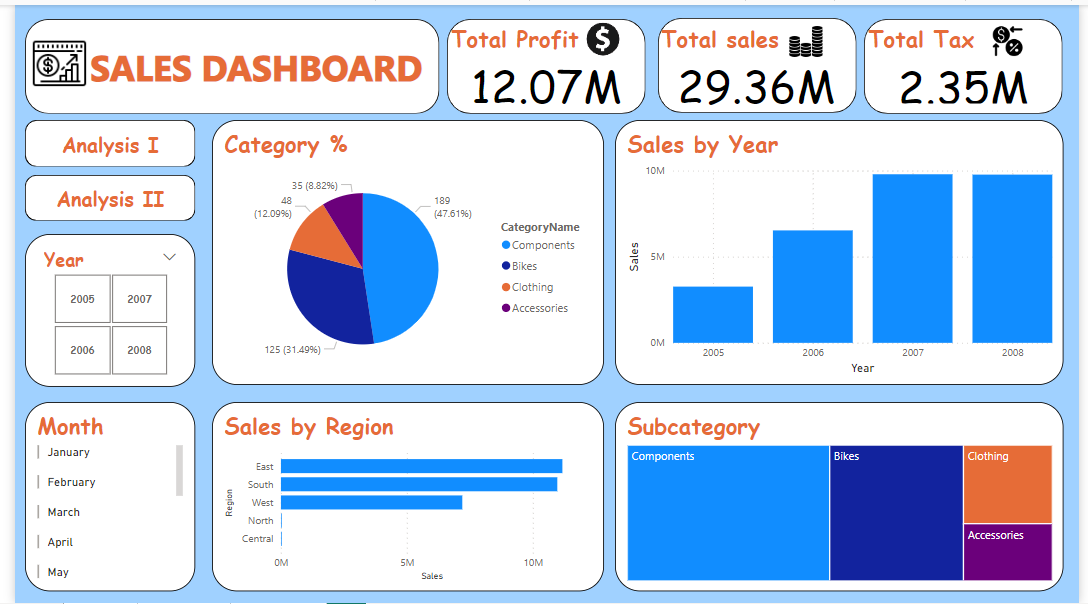

The dashboard page shown, as its layout file describes it:
{"tool":"powerbi","page":{"name":"Home","canvas":[1280,720],"ordinal":0},"visuals":[{"type":"shape","box":[11.8,16.8,498.9,114.2],"z":0},{"type":"shape","box":[520.3,17.1,239.1,114.3],"z":1000},{"type":"shape","box":[773.9,15.8,239.1,114.3],"z":2000},{"type":"shape","box":[1022.2,17.1,239.1,114.3],"z":3000},{"type":"card","fields":{"Values":["Sum(Sales.Profit)"]},"box":[520.3,61.9,239.5,67.4],"z":4000},{"type":"textbox","box":[520.3,16.5,273.9,56.4],"z":5000},{"type":"image","box":[657.9,15.1,101.8,50.9],"z":6000},{"type":"card","fields":{"Values":["Sum(Sales.SalesAmount)"]},"box":[773.5,61.9,239.5,67.4],"z":7000},{"type":"textbox","box":[773.5,16.5,239.5,56.4],"z":8000},{"type":"textbox","box":[85.3,41.3,554.7,71.6],"z":9000},{"type":"card","fields":{"Values":["Sum(Sales.TaxAmt)"]},"box":[1022.6,68.8,239.5,55.1],"z":10000},{"type":"textbox","box":[1022.6,16.5,239.5,57.8],"z":11000},{"type":"slicer","fields":{"Values":["Sales.OrderDate.Variation.Date Hierarchy.Year"]},"box":[12.4,275.3,205.1,184.4],"z":12000},{"type":"multiRowCard","title":"Month","fields":{"Values":["Sales.OrderDate.Variation.Date Hierarchy.Month"]},"box":[12.4,477.6,205.1,228.5],"z":13000},{"type":"pieChart","title":"Category %","fields":{"Category":["Products.CategoryName"],"Y":["CountNonNull(Products.Color)"]},"box":[236.7,139,472.1,319.3],"z":14000},{"type":"columnChart","fields":{"Category":["Sales.OrderDate.Variation.Date Hierarchy.Year"],"Y":["Sum(Sales.SalesAmount)"]},"box":[722.6,139,539.5,319.3],"z":15000},{"type":"clusteredBarChart","fields":{"Y":["Sum(Sales.SalesAmount)"],"Category":["Customer.Region"]},"box":[236.7,477.6,472.1,228.5],"z":16000},{"type":"treemap","title":"Subcategory ","fields":{"Values":["CountNonNull(Products.SubcategoryName)"],"Group":["Products.CategoryName"]},"box":[722.6,477.6,539.5,228.5],"z":17000},{"type":"shape","box":[12.4,139,205.1,56.4],"z":18000},{"type":"shape","box":[12.4,205.1,205.1,55.1],"z":19000},{"type":"actionButton","box":[38.5,147.3,152.8,39.9],"z":20000},{"type":"actionButton","box":[38.5,212,152.8,39.9],"z":21000},{"type":"image","box":[1160.3,17.9,68.8,50.9],"z":22000},{"type":"image","box":[12.4,11,82.6,119.7],"z":23000},{"type":"image","box":[922.2,17.9,60.6,49.5],"z":24000}]}

Visuals, with their boxes in screenshot pixels (x1, y1, x2, y2), scaled from the page's 1280x720 canvas onto the 1088x604 screenshot:
shape: crop(10, 14, 434, 110)
shape: crop(442, 14, 645, 110)
shape: crop(658, 13, 861, 109)
shape: crop(869, 14, 1072, 110)
card - Sum(Sales.Profit): crop(442, 52, 646, 108)
textbox: crop(442, 14, 675, 61)
image: crop(559, 13, 646, 55)
card - Sum(Sales.SalesAmount): crop(657, 52, 861, 108)
textbox: crop(657, 14, 861, 61)
textbox: crop(73, 35, 544, 95)
card - Sum(Sales.TaxAmt): crop(869, 58, 1073, 104)
textbox: crop(869, 14, 1073, 62)
slicer - Sales.OrderDate.Variation.Date Hierarchy.Year: crop(11, 231, 185, 386)
"Month" multiRowCard: crop(11, 401, 185, 592)
"Category %" pieChart: crop(201, 117, 602, 384)
columnChart - Sales.OrderDate.Variation.Date Hierarchy.Year x Sum(Sales.SalesAmount): crop(614, 117, 1073, 384)
clusteredBarChart - Sum(Sales.SalesAmount) x Customer.Region: crop(201, 401, 602, 592)
"Subcategory " treemap: crop(614, 401, 1073, 592)
shape: crop(11, 117, 185, 164)
shape: crop(11, 172, 185, 218)
actionButton: crop(33, 124, 163, 157)
actionButton: crop(33, 178, 163, 211)
image: crop(986, 15, 1045, 58)
image: crop(11, 9, 81, 110)
image: crop(784, 15, 835, 57)
